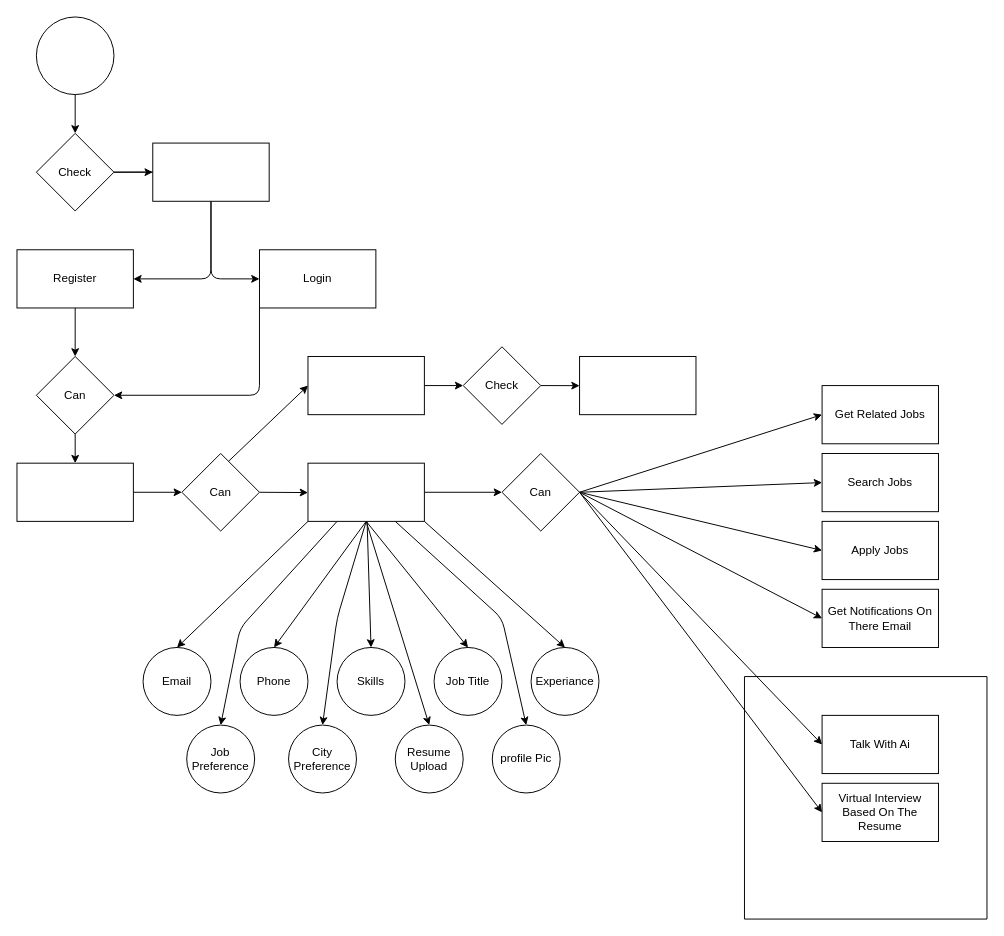
Image size: 1004x936. Some labels were removed from this diagram. Each missing label, with the centre of its shape:
"Already Exists" belongs at pixel 210 171.
"ATS Score & Improvement" belongs at pixel 637 385.
"DashBoard" belongs at pixel 74 491.
"Update Profile" belongs at pixel 365 491.
"Upload Resume" belongs at pixel 365 385.
"user" belongs at pixel 74 55.
"V2" belongs at pixel 865 797.
